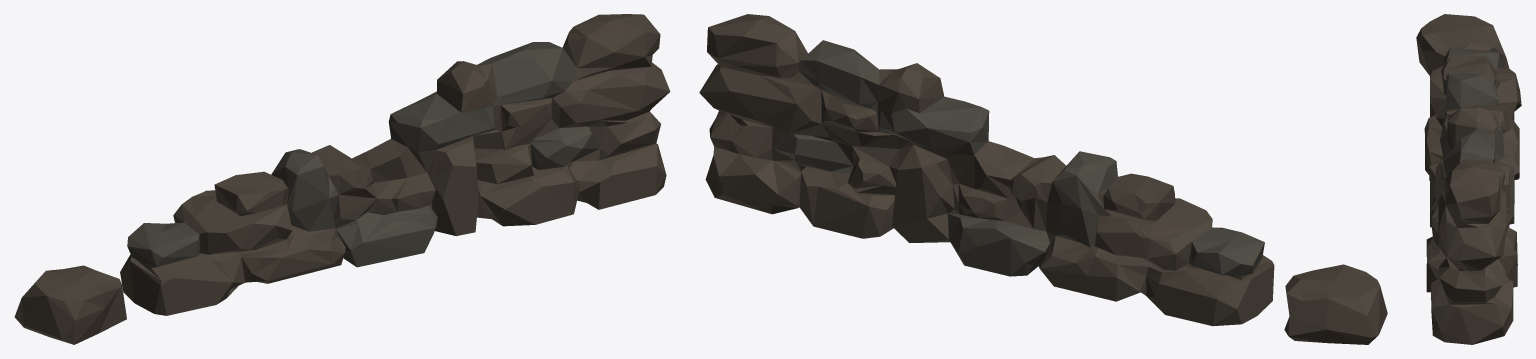
The picture shows the model from 3 angles, left to right: view 1: azimuth 30°, elevation 25°; view 2: azimuth 150°, elevation 25°; view 3: azimuth 270°, elevation 25°; orthographic projection. The views are drawn at different scales.
Parts seen in each view (by area): view 1: SM_Prop_StoneWall_02; view 2: SM_Prop_StoneWall_02; view 3: SM_Prop_StoneWall_02.
Boxes of the visible parts, x1,y1,x2,y2 form: SM_Prop_StoneWall_02: (14, 14, 670, 344); SM_Prop_StoneWall_02: (699, 14, 1387, 344); SM_Prop_StoneWall_02: (1416, 14, 1521, 344).
Bounding box in the file's own units: 4.27 × 1.08 × 0.6368.
1 material, 1 textured.
